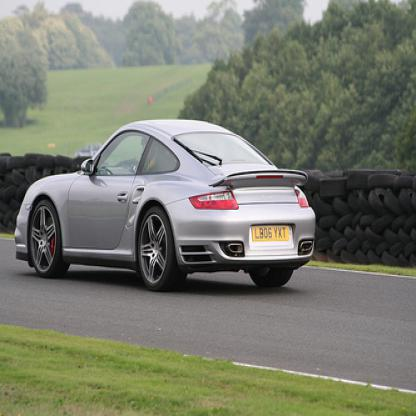car: (12, 114, 317, 292)
